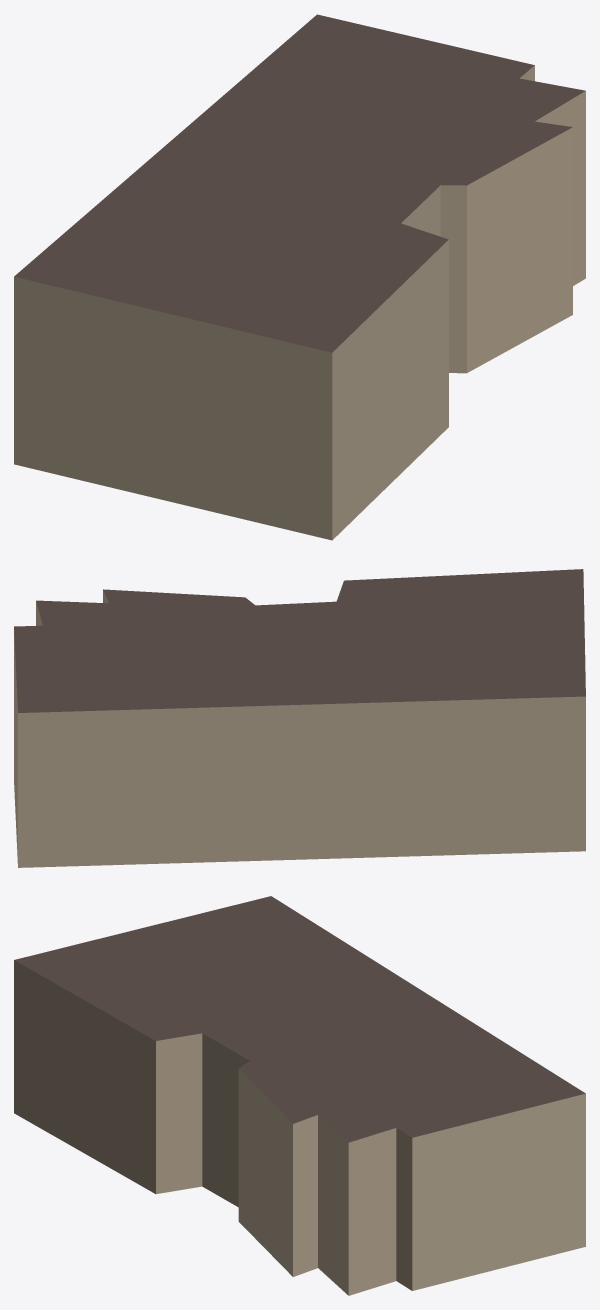
The picture shows the model from 3 angles, top to bottom: view 1: azimuth 30°, elevation 25°; view 2: azimuth 150°, elevation 25°; view 3: azimuth 270°, elevation 25°; orthographic projection. The views are drawn at different scales.
Visible parts, largest first — view 1: HP-w1512530042; view 2: HP-w1512530042; view 3: HP-w1512530042.
Part boxes in pixels (<box>): HP-w1512530042: <box>14,14,585,540</box>; HP-w1512530042: <box>14,569,585,867</box>; HP-w1512530042: <box>14,896,585,1295</box>.
Size of the model in its own units: 31.07 by 9 by 30.45.
